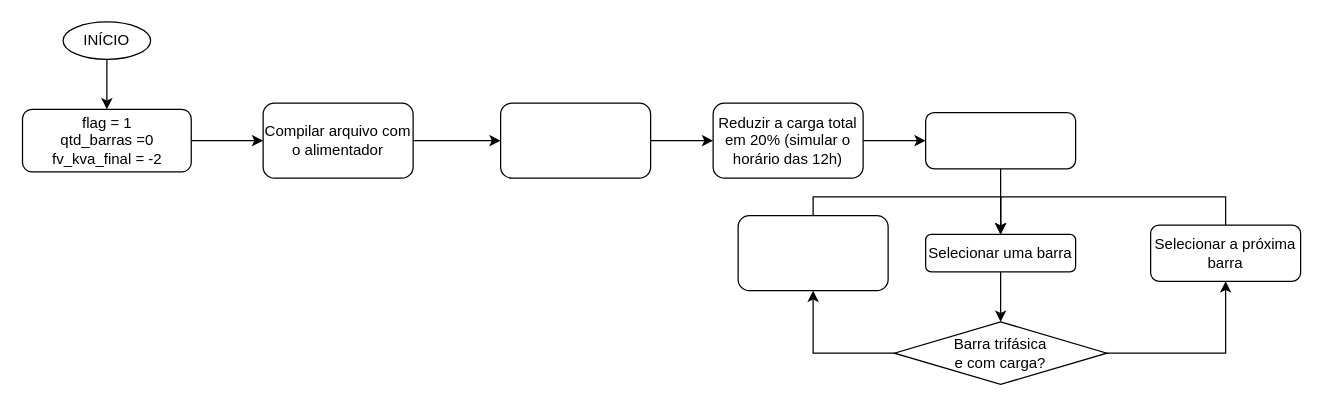
The diagram is 1323 pixels wide and 406 high, and some of its shapes have lost their labels. The shapes that lost their labels are listed below. From the top down, each one's box as (x1, y1, x2, y2) in pixels, then its label:
(499, 102, 651, 178): Zerar impedâncias de entrada
(924, 111, 1076, 169): Calcular o fluxo de potência
(737, 214, 888, 291): Armazenar a barra em uma lista e selecionar a próxima barra
